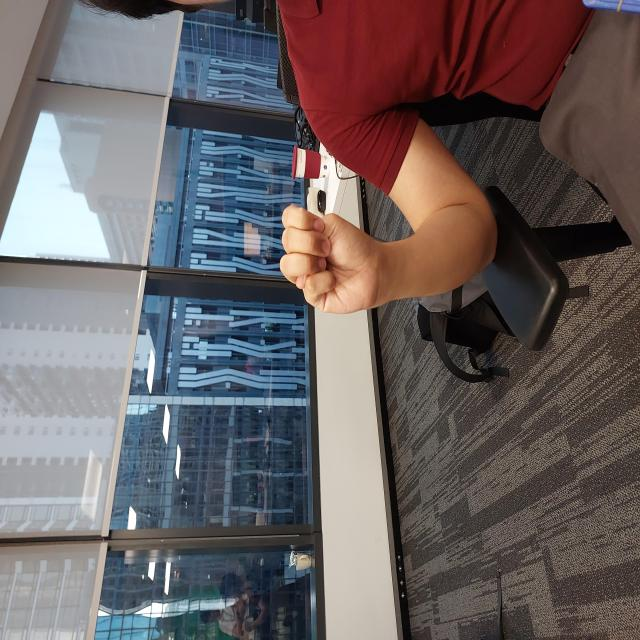M: (324, 278, 438, 392)
